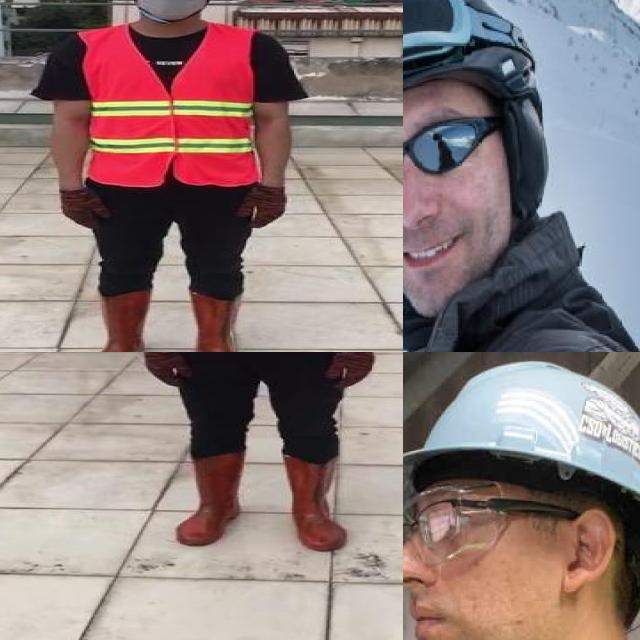No_Ear-Protection: (561, 505, 616, 596)
boots: (280, 451, 347, 551), (176, 454, 244, 547), (185, 290, 256, 352), (87, 292, 144, 352)
face_mask: (128, 0, 214, 19)
face_nomask: (403, 125, 495, 276)
glasses: (403, 108, 518, 197), (403, 0, 478, 121)
hand_glove: (237, 186, 289, 227), (58, 188, 109, 229), (142, 352, 192, 388), (327, 352, 373, 388)
head_helmet: (403, 0, 549, 125)
person: (41, 0, 304, 352), (113, 352, 403, 552)
vest: (74, 25, 256, 186)
